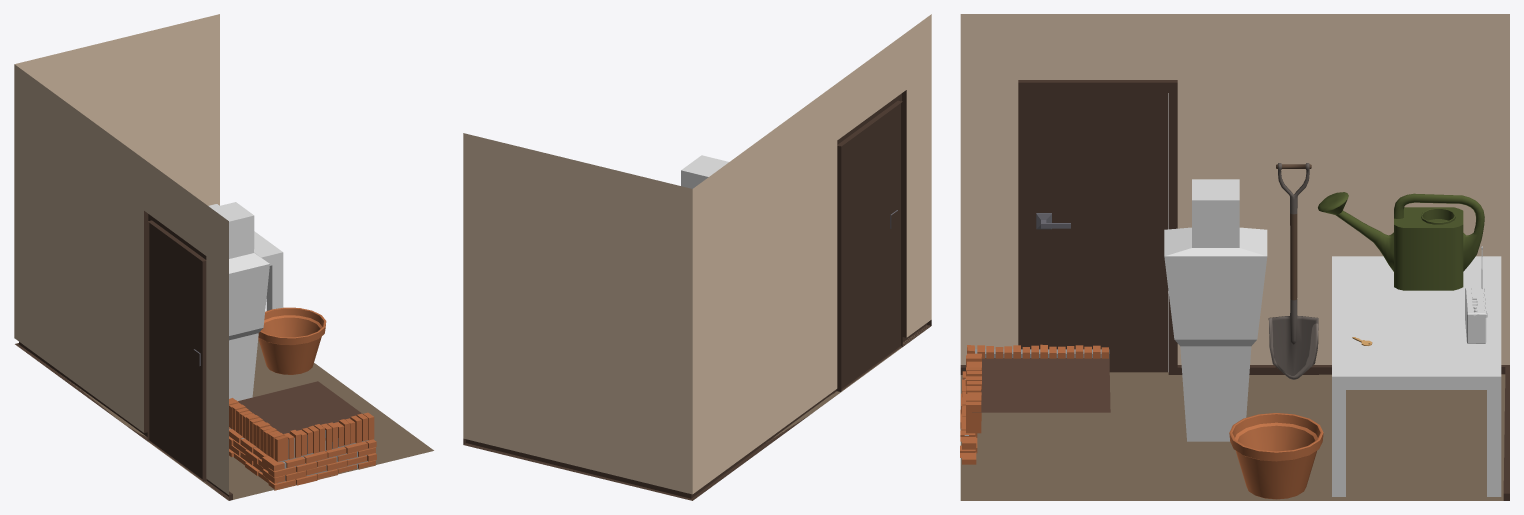
Rendered from ReferenceCornerWIP.fbx.
3 renders of one model, left to right at view 1: azimuth 30°, elevation 25°; view 2: azimuth 150°, elevation 25°; view 3: azimuth 270°, elevation 25°, orthographic. The views are drawn at different scales.
Parts seen in each view (by area): view 1: Cube, Cube.002, SM_PlantationCorner, Cube.001, SM_PotEmpty, Plane; view 2: Cube, Cube.002, Cube.001; view 3: Cube, Cube.002, Plane, Cube.001, SM_PlantationCorner, SM_Wateringcan, SM_PotEmpty, Shovel, Radio.
Part boxes in pixels (left/top/right/bottom): Cube: left=14, top=14, right=433, bottom=500; Cube.002: left=147, top=221, right=204, bottom=480; SM_PlantationCorner: left=229, top=381, right=376, bottom=490; Cube.001: left=211, top=202, right=269, bottom=400; SM_PotEmpty: left=258, top=307, right=326, bottom=374; Plane: left=208, top=204, right=283, bottom=310; Cube: left=463, top=14, right=931, bottom=500; Cube.002: left=840, top=101, right=902, bottom=390; Cube.001: left=681, top=155, right=728, bottom=188; Cube: left=960, top=14, right=1509, bottom=500; Cube.002: left=1027, top=93, right=1168, bottom=372; Plane: left=1332, top=256, right=1501, bottom=496; Cube.001: left=1164, top=179, right=1267, bottom=441; SM_PlantationCorner: left=960, top=344, right=1110, bottom=464; SM_Wateringcan: left=1318, top=192, right=1484, bottom=290; SM_PotEmpty: left=1229, top=413, right=1323, bottom=499; Shovel: left=1268, top=163, right=1318, bottom=379; Radio: left=1465, top=246, right=1487, bottom=343.
Size of the model in its own units: 225 by 280 by 387.
